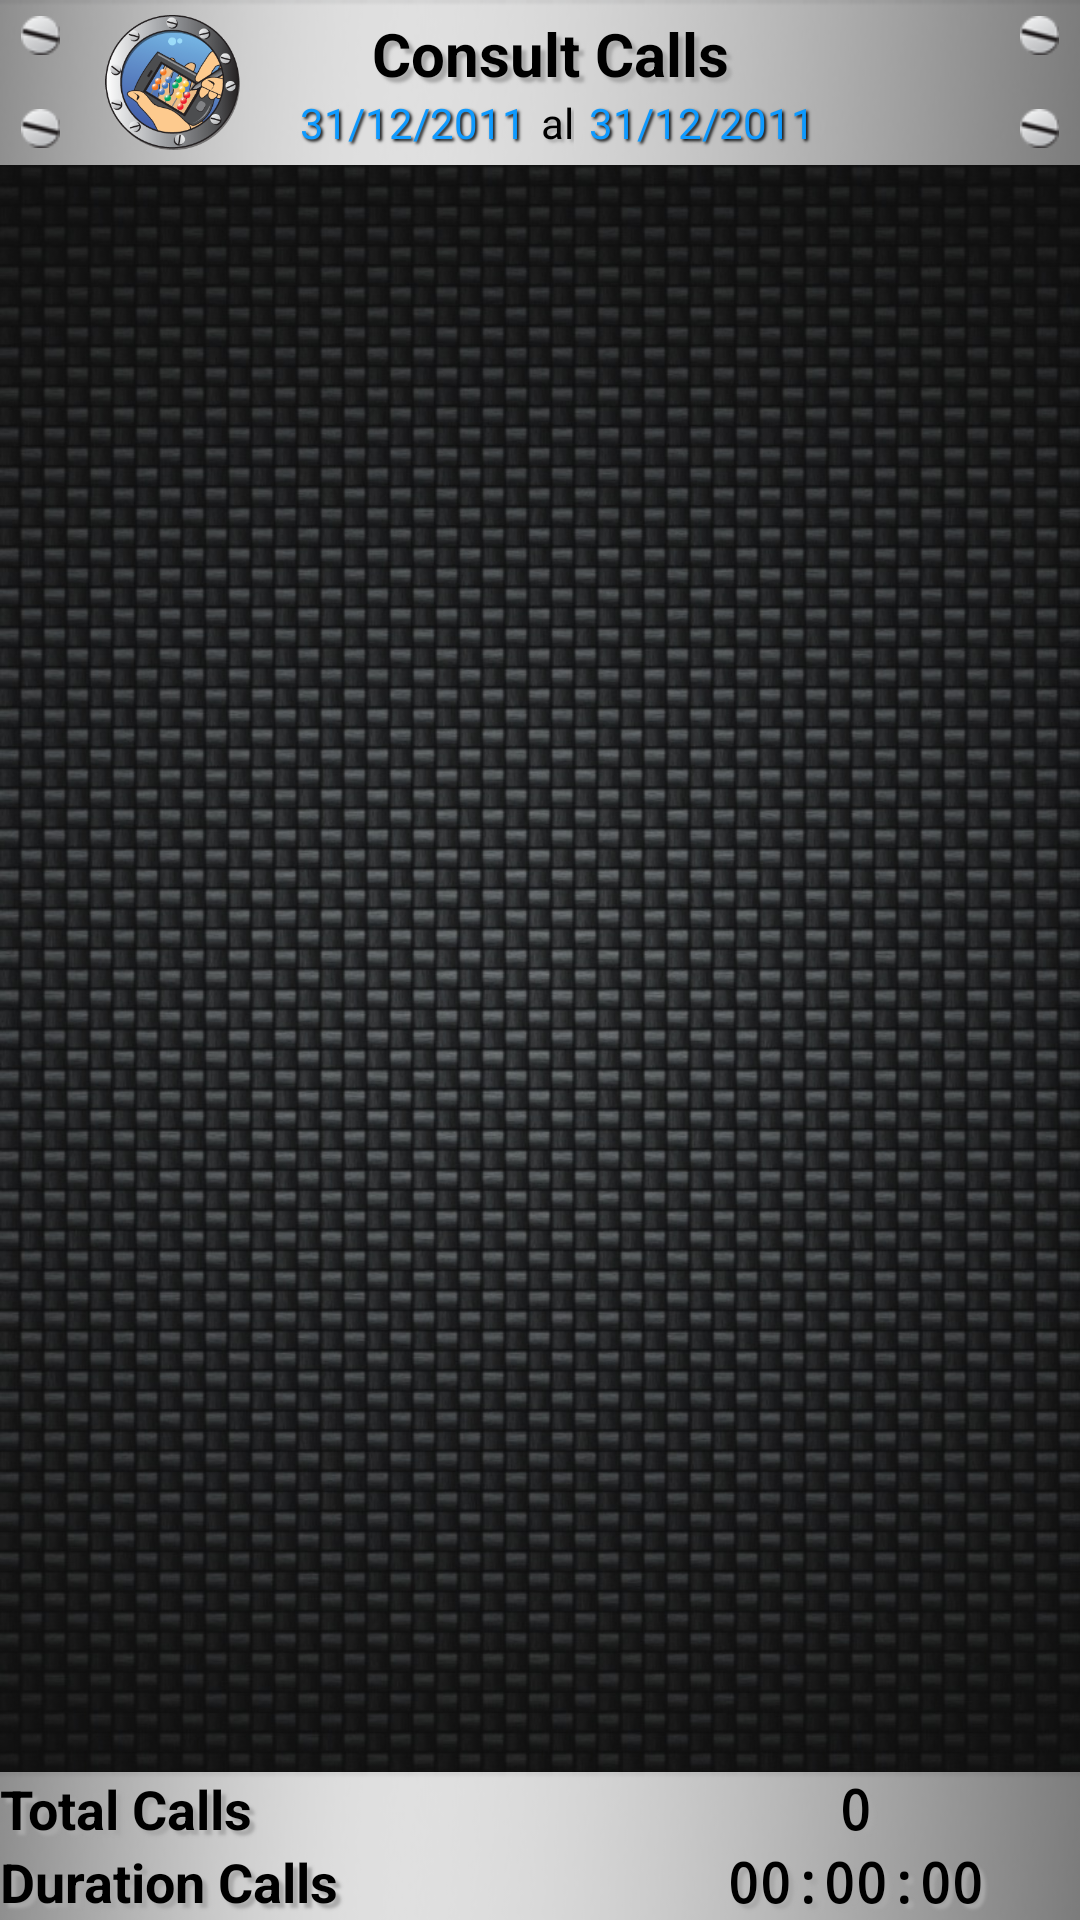

Screen size 1080px x 1920px. Icon name, then its box in pixels as (x1, y1, x2, y2):
tornillo: (21, 16, 60, 55), (1020, 16, 1059, 55), (21, 109, 60, 148), (1020, 109, 1059, 148)
